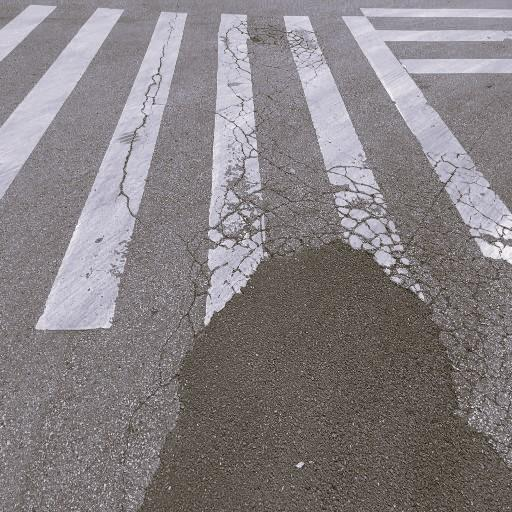Sambungan: (128, 239, 512, 512)
